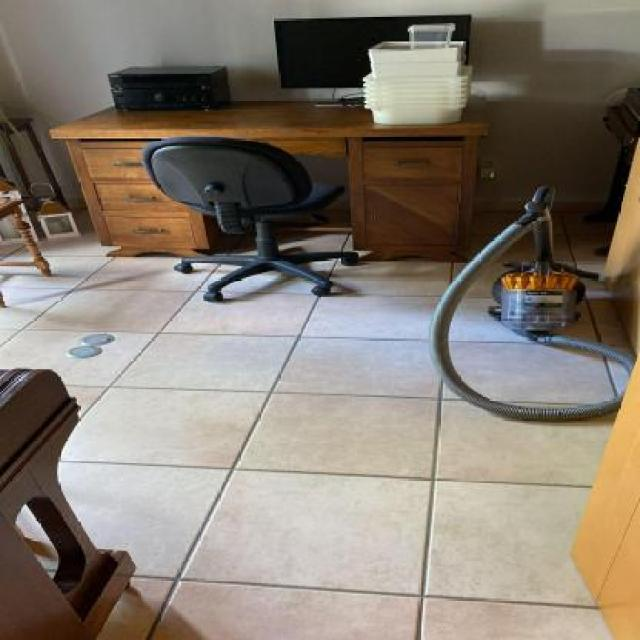Floor: (0, 208, 618, 640), (447, 228, 630, 410), (546, 211, 636, 358), (15, 504, 60, 578), (276, 230, 373, 256), (192, 231, 258, 256)
